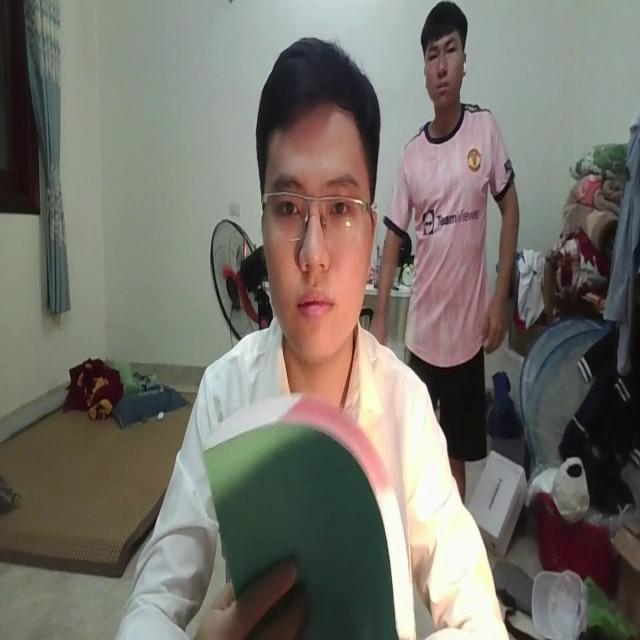book: (198, 386, 414, 640)
extra_person: (374, 0, 517, 474)
student: (103, 34, 504, 640)
